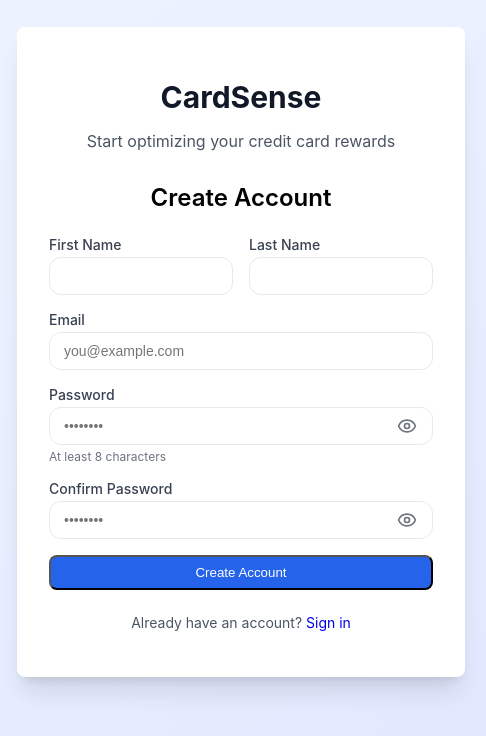
Test: Register Component › Registration Flow › displays error message on registration failure
Type "John" into the field labelled "First Name". click: (141, 276)
box: [49,257,233,295]
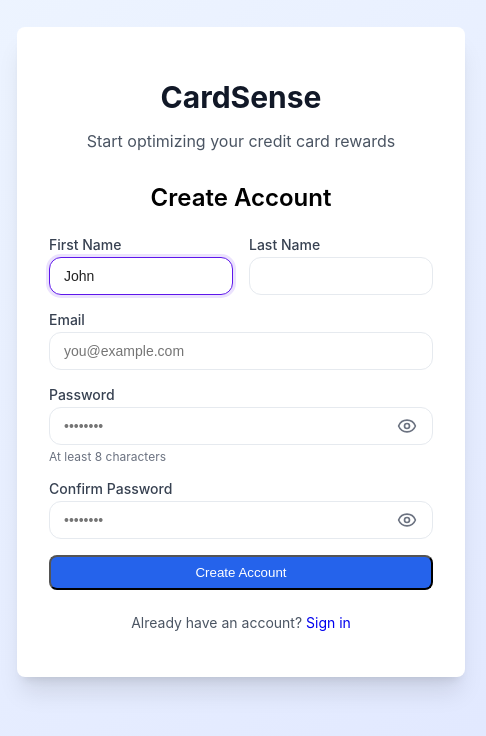
Type "Doe" into the field labelled "Last Name". click: (341, 276)
box: [249,257,433,295]
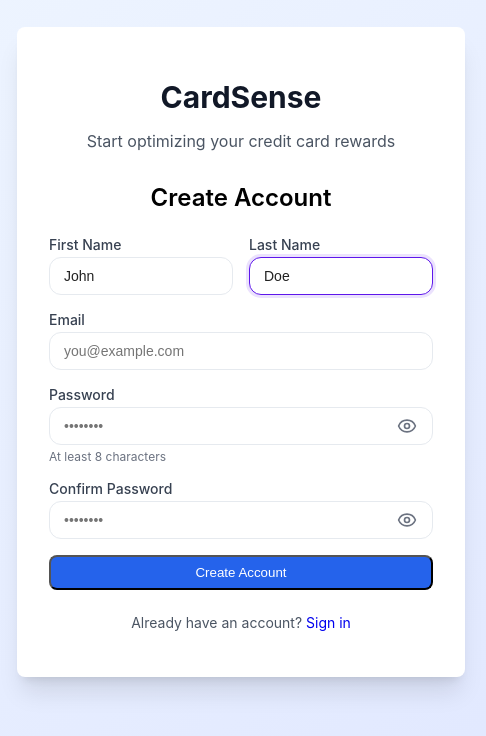
Type "existing@example.com" into the field labelled "Email". click: (241, 351)
box: [49,332,433,370]
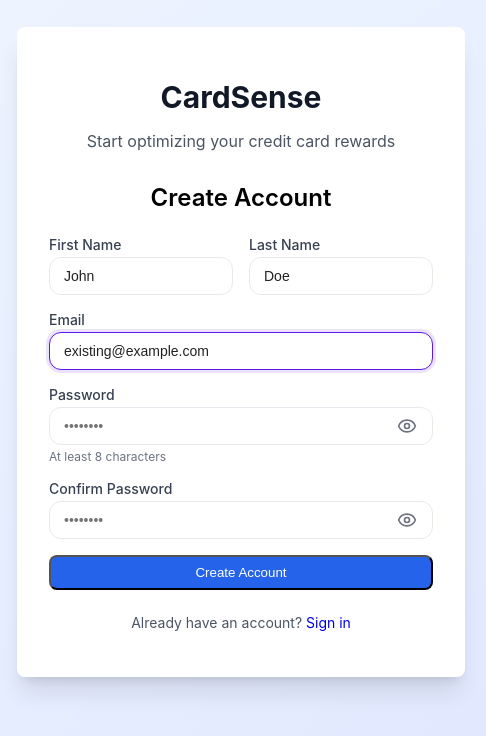
Type "password123" into the password field labelled "Password". click: (241, 426)
box: [49,407,433,445]
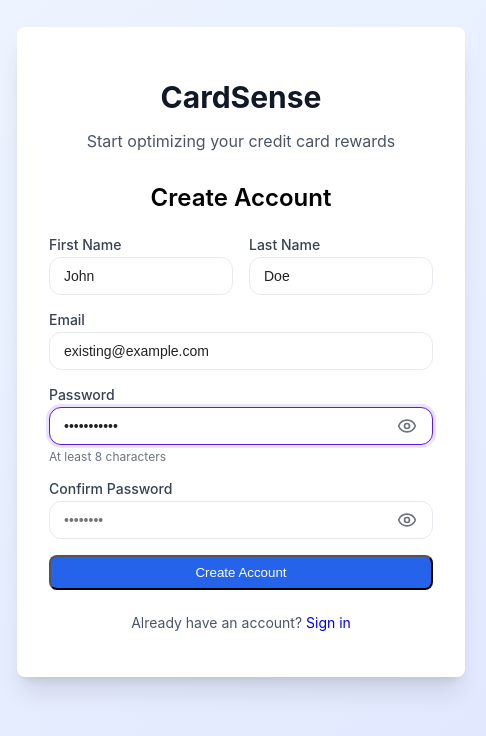
Type "password123" into the password field labelled "Confirm Password". click: (241, 520)
box: [49,501,433,539]
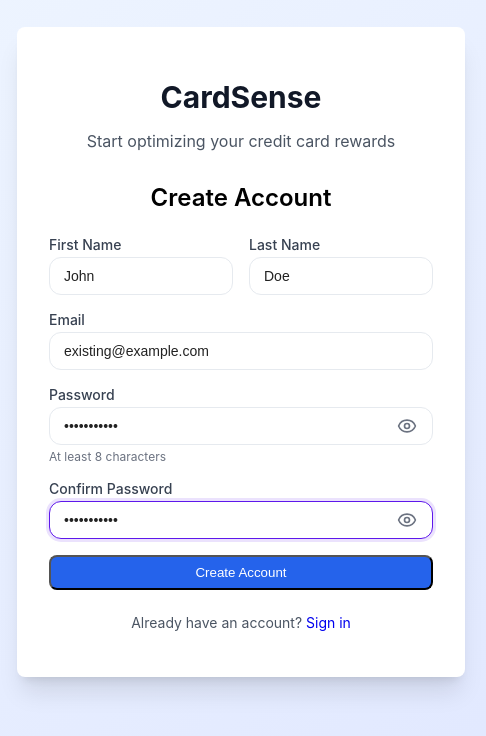
Click the button "Create Account". click: (241, 572)
box: [49,555,433,590]
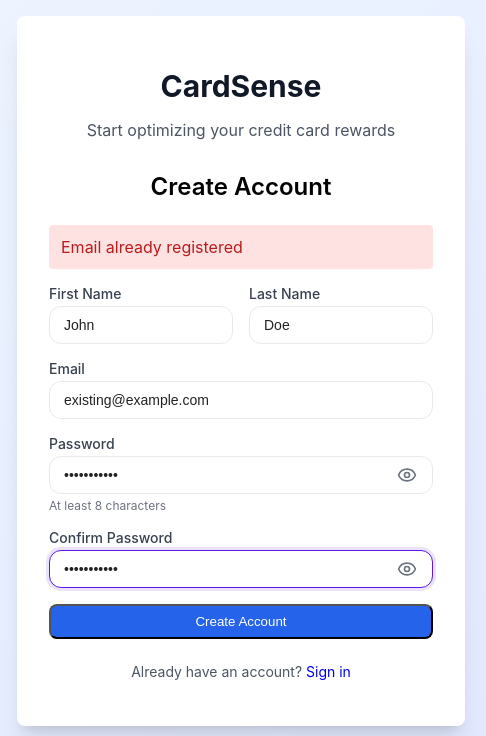
expect the text "Email already registered" is shown: met, box [49,225,433,269]
